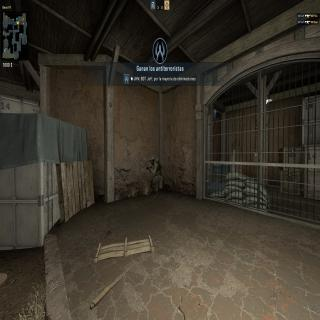CT-Head: (148, 154, 156, 166)
